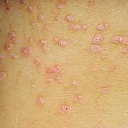Psoriasis: (6, 4, 122, 55)
